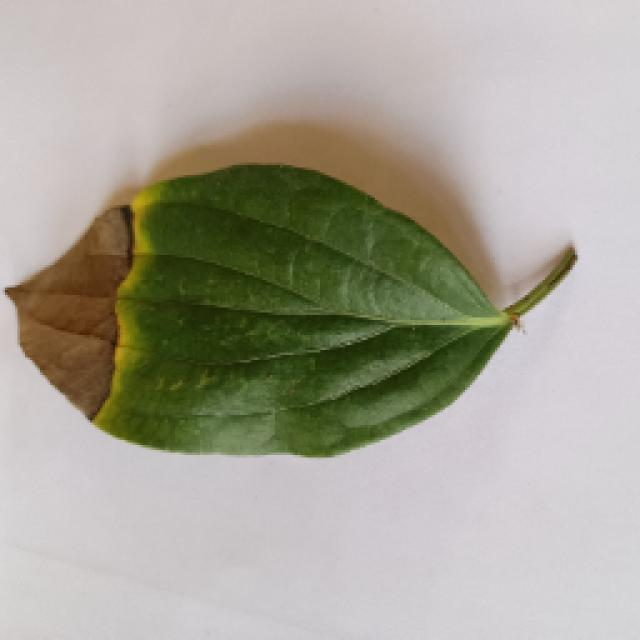footrot: (0, 135, 572, 450)
